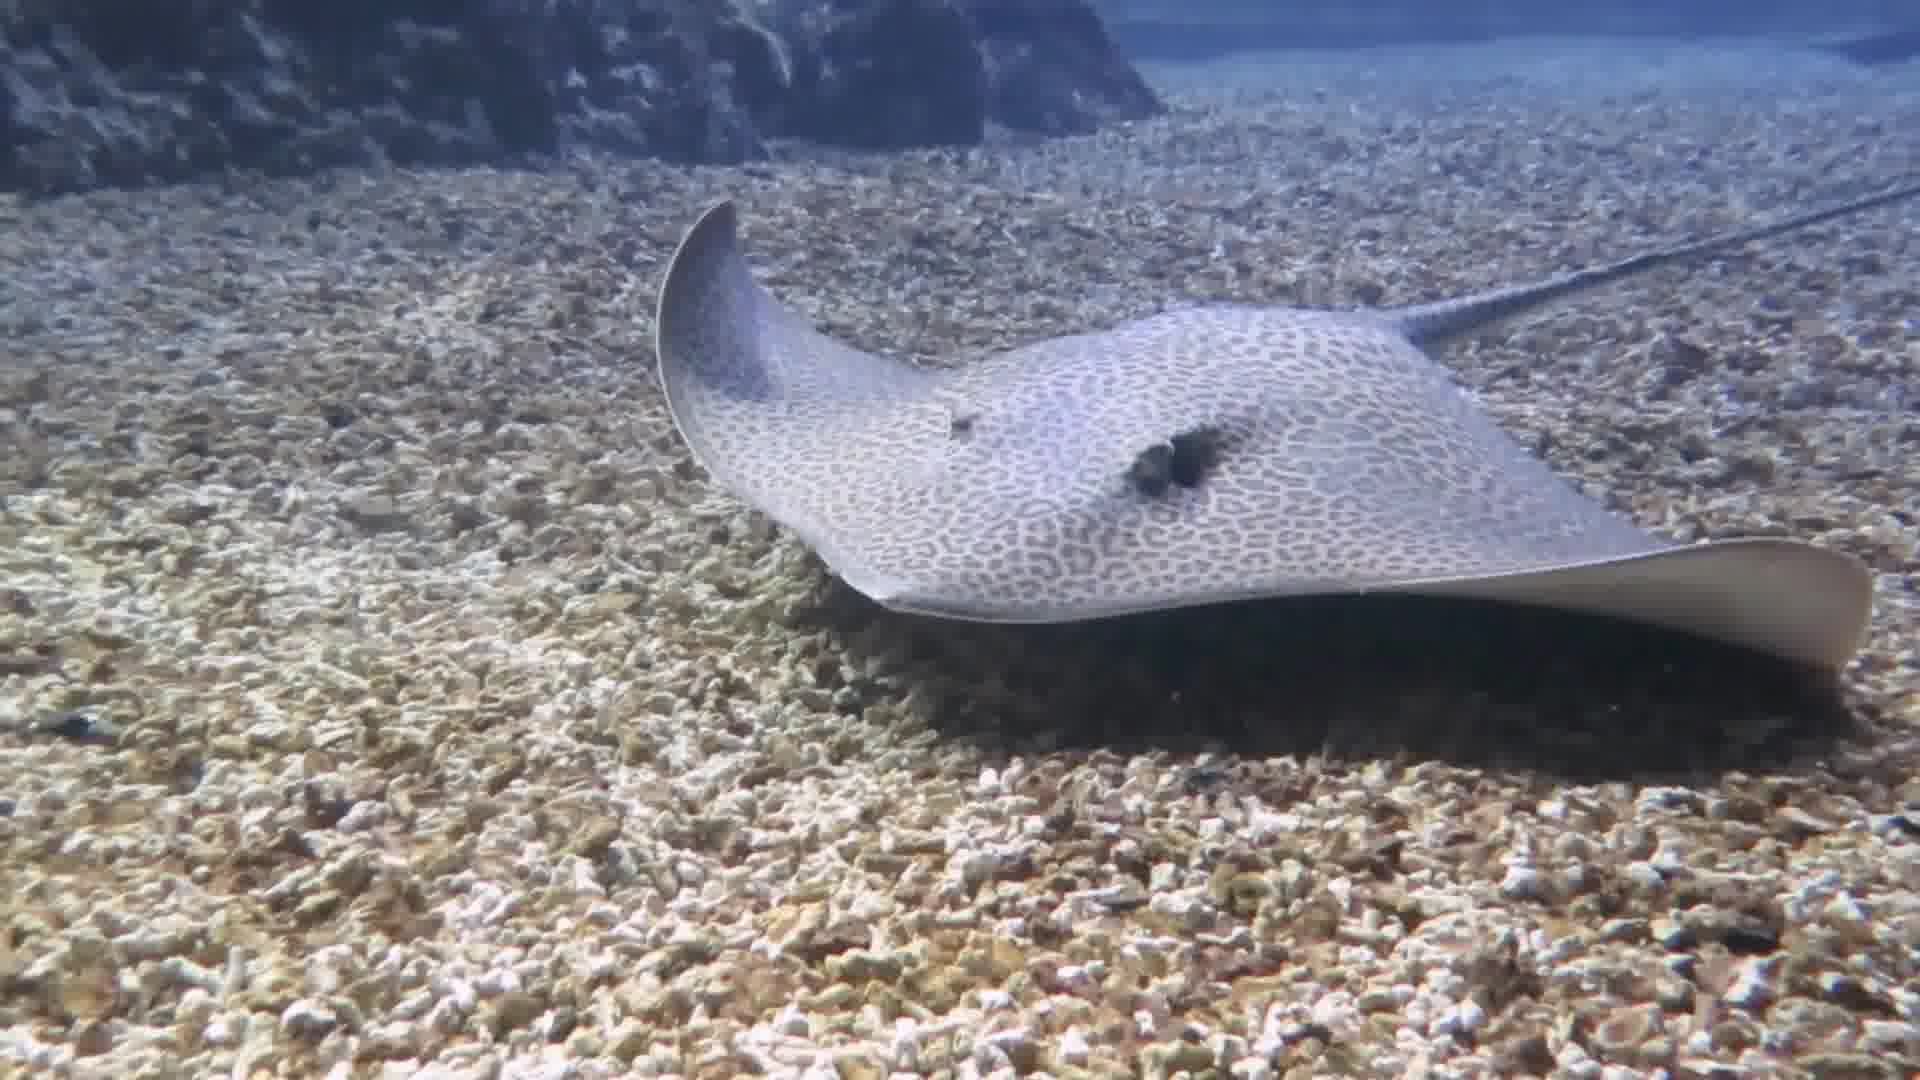Himantura uarnak: (454, 193, 1920, 665)
